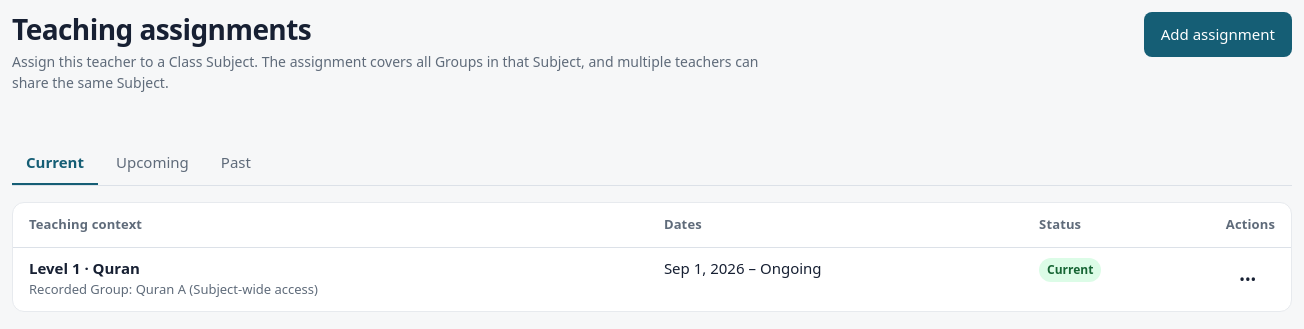
Scenario: teaching assignment workspace reference CRUD flow › shows only the active Current tab panel initially
Check: the text "Level 1 · Quran" is shown, box [29,258,140,278]
What coordinates should you click on to do the following:
click the tab "Upcoming"
I would click on:
 (152, 163)
Its box is [102,141,203,185].
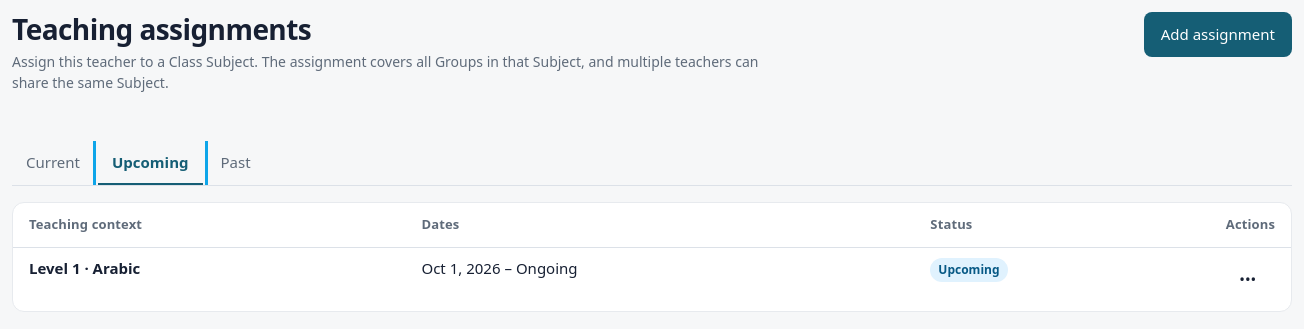
Check: the text "Level 1 · Arabic" is shown, box [29,258,140,278]
Check: the text "Level 1 · Quran" is gone
